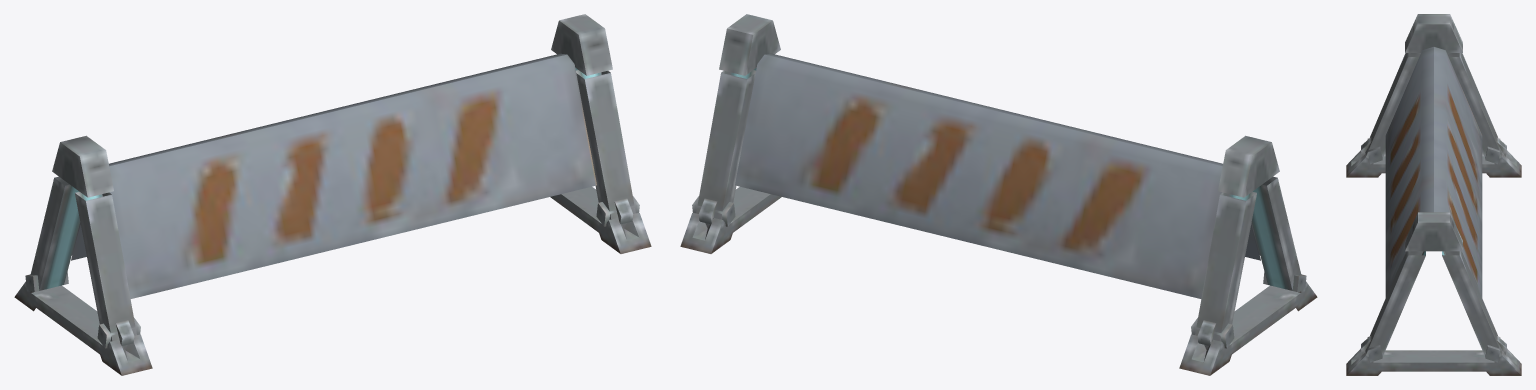
Rendered from Demo_luzhuang.FBX.
3 views of the same model, side by side, from view 1: azimuth 30°, elevation 25°; view 2: azimuth 150°, elevation 25°; view 3: azimuth 270°, elevation 25° (orthographic). The views are drawn at different scales.
Visible parts, largest first — view 1: Demo_luzhuang; view 2: Demo_luzhuang; view 3: Demo_luzhuang.
Part boxes in pixels (left/top/right/bottom): Demo_luzhuang: left=14, top=14, right=651, bottom=375; Demo_luzhuang: left=680, top=14, right=1317, bottom=375; Demo_luzhuang: left=1346, top=14, right=1521, bottom=375.
Bounding box in the file's own units: 9.47 × 3.17 × 3.31.
